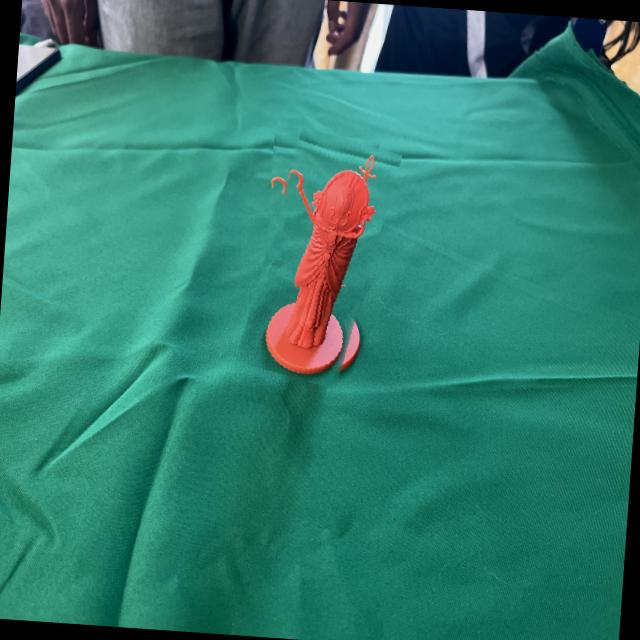amon: (246, 128, 392, 388)
